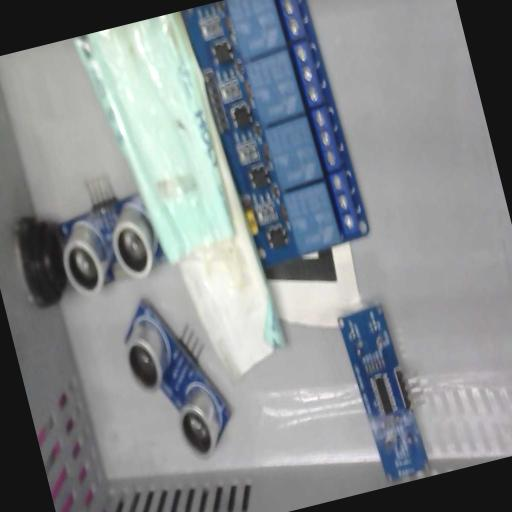relay_module: (179, 0, 373, 272)
triple_syringe: (73, 11, 289, 388)
ultrasonic_hc-sr04: (114, 284, 241, 470), (336, 301, 442, 487), (44, 162, 170, 301)
